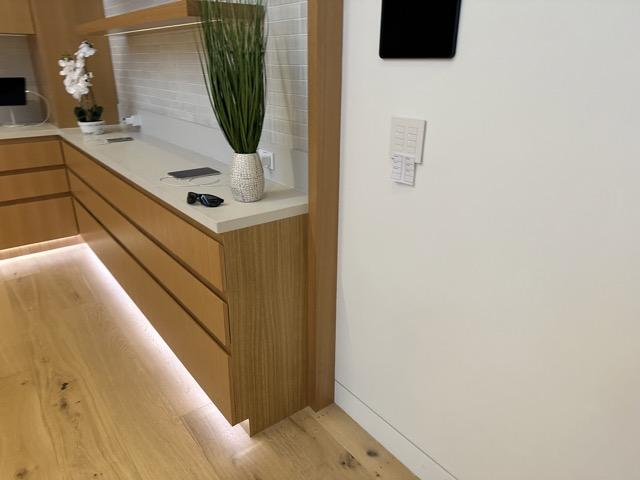Sunglasses: (186, 190, 224, 208)
